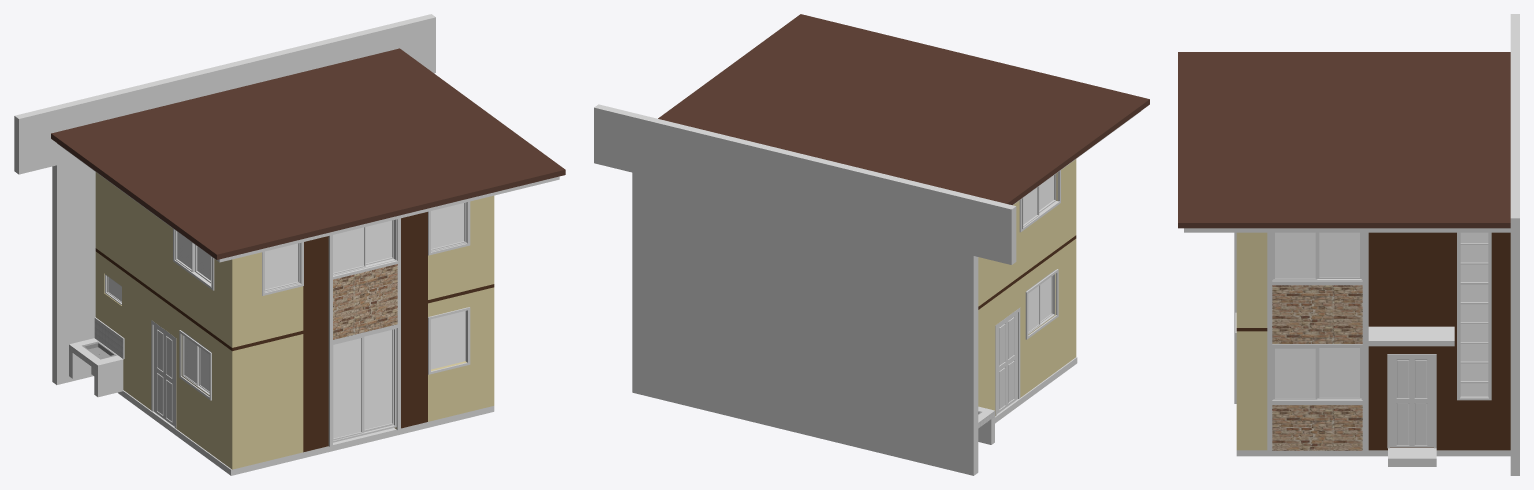
Rendered from linnea_default.glb.
3 views of the same model, side by side, from view 1: azimuth 30°, elevation 25°; view 2: azimuth 150°, elevation 25°; view 3: azimuth 270°, elevation 25° (orthographic).
Parts seen in each view (by area): view 1: Plane.023; view 2: Plane.023; view 3: Plane.023.
Boxes of the visible parts, x1,y1,x2,y2 form: Plane.023: (14,14,565,475); Plane.023: (594,14,1149,475); Plane.023: (1178,14,1519,475).
Bounding box in the file's own units: 9.18 × 5.79 × 6.49.
28 materials, 2 textured.
